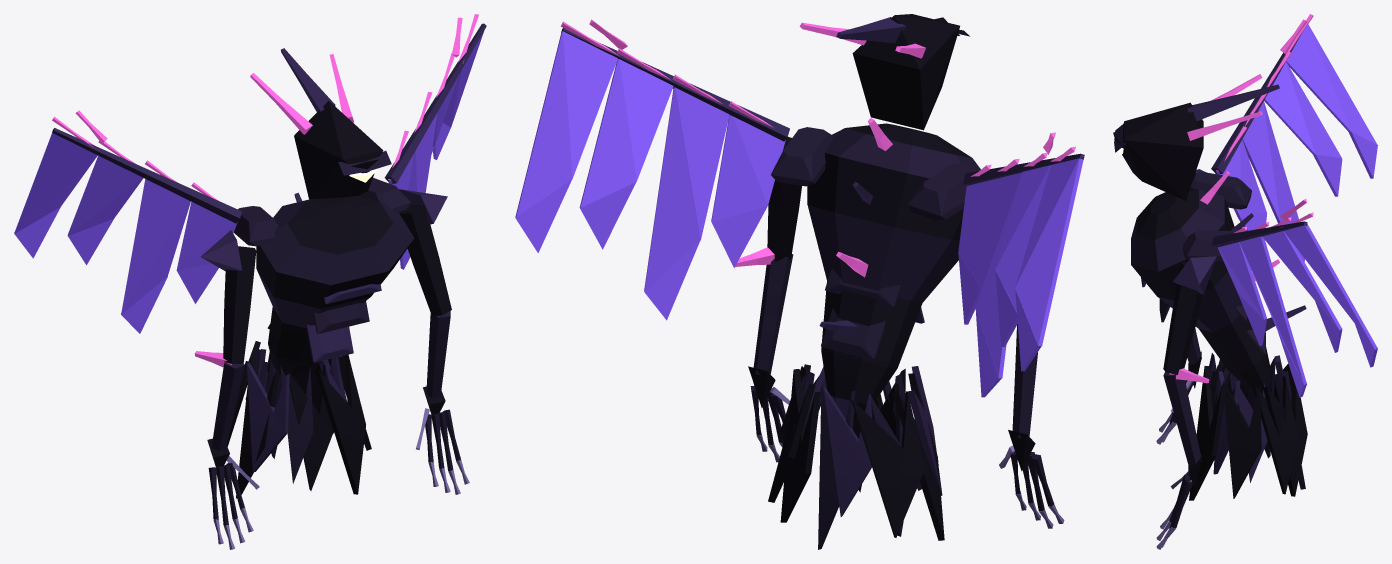
Rendered from castshade.glb.
3 views of the same model, side by side, from view 1: azimuth 30°, elevation 25°; view 2: azimuth 150°, elevation 25°; view 3: azimuth 270°, elevation 25° (orthographic). The views are drawn at different scales.
Parts seen in each view (by area): view 1: body, memR, head, tatters2, tatters, armR, memL, armL, handR, handL; view 2: memL, body, memR, tatters2, head, tatters, armL, handR, handL, armR; view 3: body, memR, memL, head, tatters2, armL, tatters, handL, handR, armR.
Boxes of the visible parts, bbox=[...] form: body: bbox=[234, 177, 414, 376]; memR: bbox=[14, 110, 241, 333]; head: bbox=[250, 48, 391, 199]; tatters2: bbox=[227, 341, 371, 498]; tatters: bbox=[245, 348, 347, 490]; armR: bbox=[194, 230, 256, 451]; memL: bbox=[384, 14, 486, 269]; armL: bbox=[399, 189, 451, 398]; handR: bbox=[207, 438, 259, 549]; handL: bbox=[416, 386, 469, 494]; memL: bbox=[515, 19, 789, 320]; body: bbox=[770, 118, 980, 404]; memR: bbox=[958, 132, 1084, 397]; tatters2: bbox=[768, 364, 944, 549]; head: bbox=[799, 14, 969, 130]; tatters: bbox=[780, 366, 942, 536]; armL: bbox=[735, 137, 801, 374]; handR: bbox=[999, 430, 1064, 528]; handL: bbox=[748, 366, 789, 462]; armR: bbox=[1012, 324, 1037, 438]; body: bbox=[1131, 171, 1306, 391]; memR: bbox=[1211, 14, 1377, 261]; memL: bbox=[1212, 199, 1377, 397]; head: bbox=[1113, 74, 1279, 200]; tatters2: bbox=[1189, 361, 1305, 500]; armL: bbox=[1163, 256, 1216, 464]; tatters: bbox=[1209, 353, 1307, 496]; handL: bbox=[1156, 452, 1201, 549]; handR: bbox=[1156, 351, 1201, 444]; armR: bbox=[1187, 169, 1206, 364].
Size of the model in its own units: 2.19 by 2.05 by 1.2.
